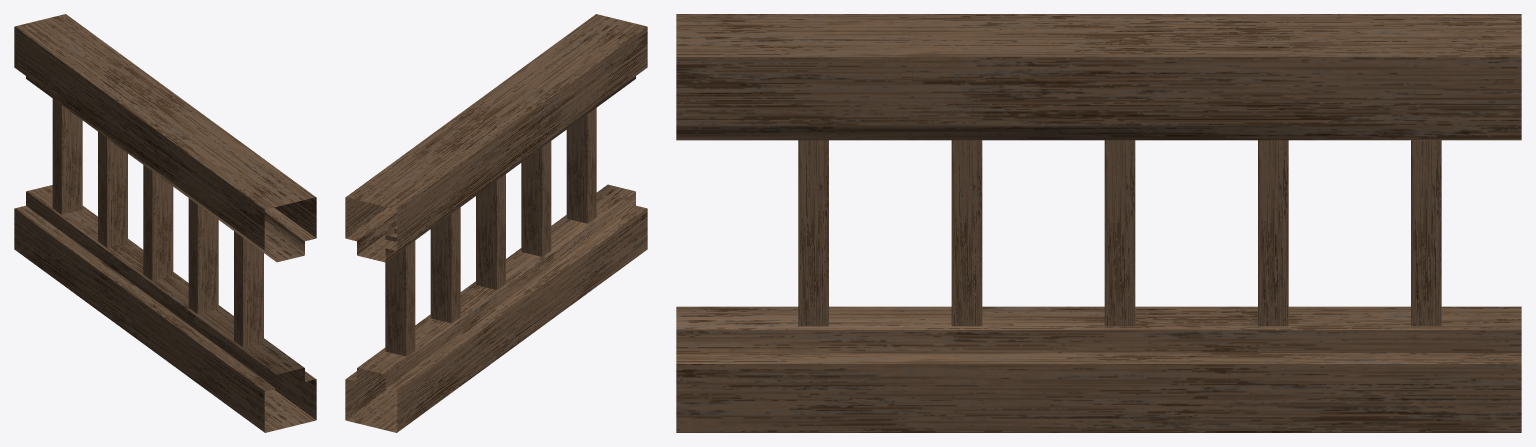
The model's file is SM_fence_02.fbx.
The picture shows the model from 3 angles, left to right: view 1: azimuth 30°, elevation 25°; view 2: azimuth 150°, elevation 25°; view 3: azimuth 270°, elevation 25°; orthographic projection. The views are drawn at different scales.
Parts seen in each view (by area): view 1: SM_fence_02; view 2: SM_fence_02; view 3: SM_fence_02.
Boxes of the visible parts, bbox=[...] form: SM_fence_02: bbox=[14, 14, 316, 432]; SM_fence_02: bbox=[345, 14, 647, 432]; SM_fence_02: bbox=[676, 14, 1521, 432].
Bounding box in the file's own units: 22.69 × 190 × 93.53.
1 material, 1 textured.
